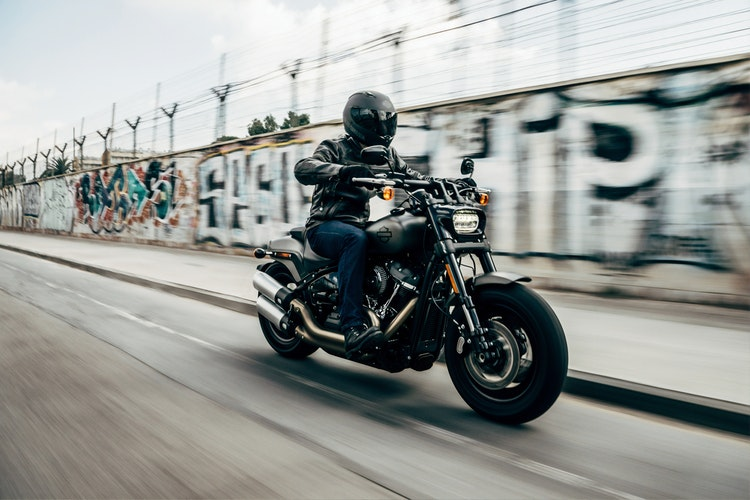helmet: (342, 88, 407, 156)
